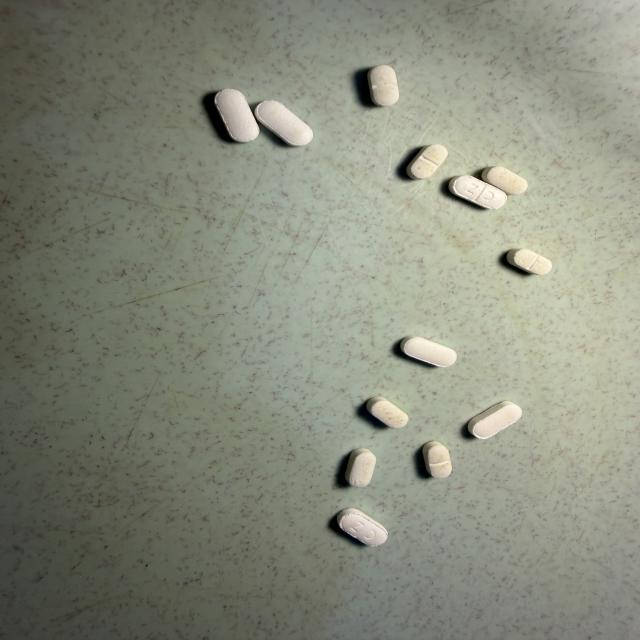pill: (255, 101, 313, 146), (215, 89, 259, 142), (468, 402, 522, 439), (449, 176, 507, 209), (338, 508, 387, 546), (400, 336, 456, 366), (407, 144, 447, 179), (367, 397, 408, 428), (368, 65, 399, 106), (482, 167, 527, 195), (346, 448, 376, 487), (507, 249, 552, 274), (423, 441, 452, 478)
